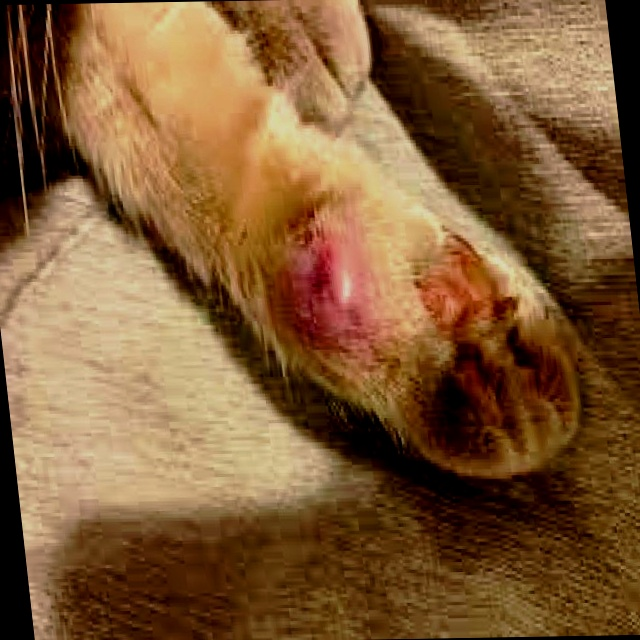lump_and_bump: (273, 214, 371, 350)
